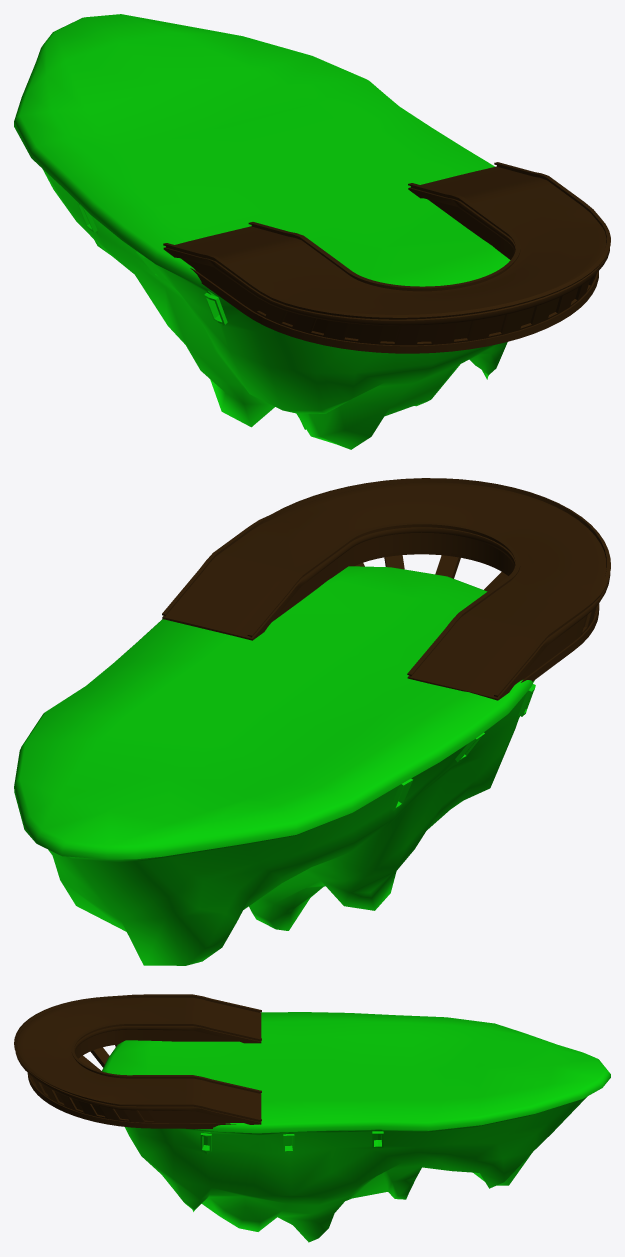
File: ST_Isle.fbx
3 views of the same model, one above another, from view 1: azimuth 30°, elevation 25°; view 2: azimuth 150°, elevation 25°; view 3: azimuth 270°, elevation 25° (orthographic). The views are drawn at different scales.
Parts seen in each view (by area): view 1: ST_Island; view 2: ST_Island; view 3: ST_Island.
Part boxes in pixels (x1,y1,x2,y2): ST_Island: (14,14,610,449); ST_Island: (14,478,610,965); ST_Island: (14,994,610,1242).
Size of the model in its own units: 4877 by 3838 by 10706.
